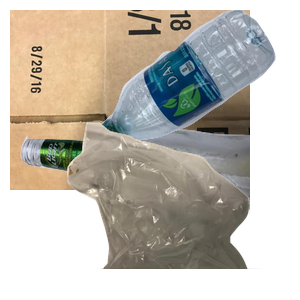cardboard: (10, 10, 250, 190)
glass: (18, 124, 258, 300)
plastic: (90, 10, 300, 156)
trash: (65, 120, 300, 300)
